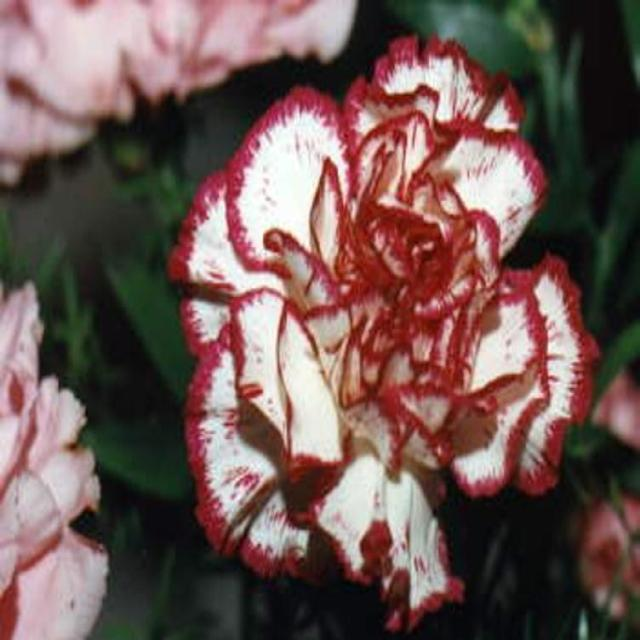carnation: (182, 36, 588, 616)
